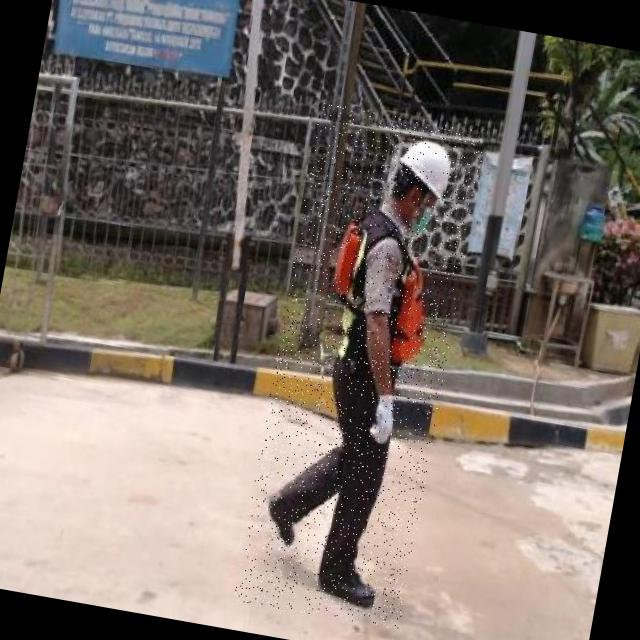hard_hat: (392, 131, 459, 206)
safety_vest: (315, 213, 449, 387)
vehicle: (233, 102, 486, 629)
work_boots: (310, 554, 382, 610), (256, 485, 304, 555)
